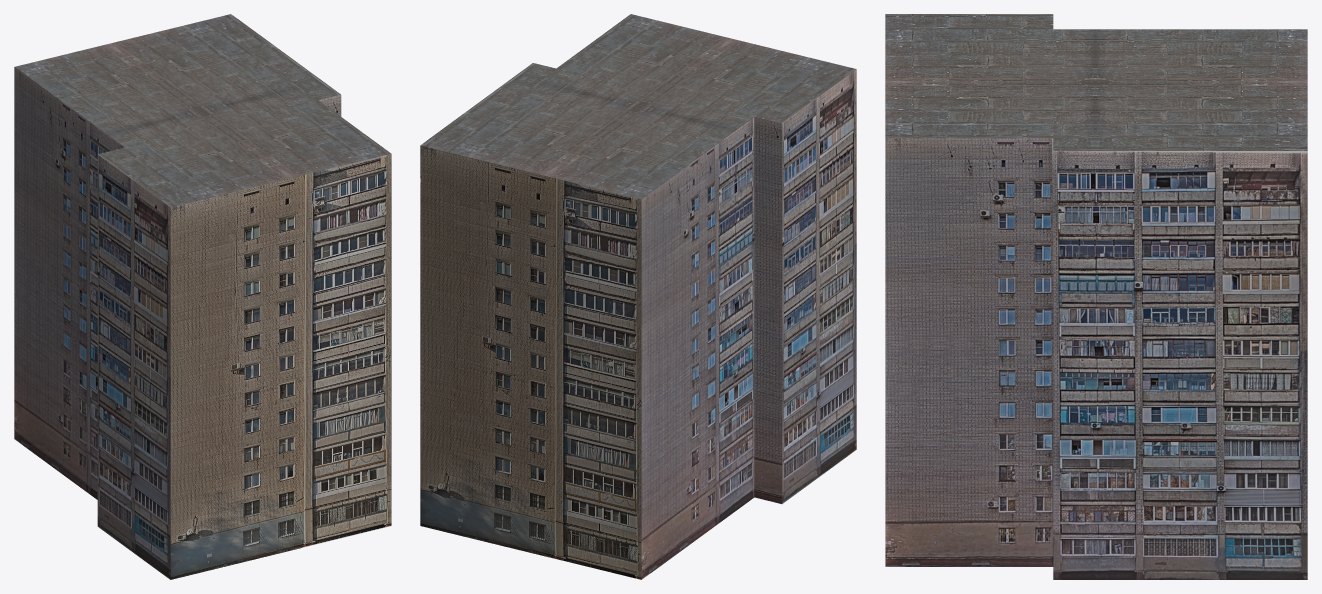
File: russian.glb
3 views of the same model, side by side, from view 1: azimuth 30°, elevation 25°; view 2: azimuth 150°, elevation 25°; view 3: azimuth 270°, elevation 25° (orthographic). The views are drawn at different scales.
Visible parts, largest first — view 1: Cube; view 2: Cube; view 3: Cube.
Boxes of the visible parts, left/top/right/bottom form: Cube: left=14, top=14, right=391, bottom=579; Cube: left=420, top=14, right=856, bottom=579; Cube: left=885, top=14, right=1307, bottom=579.
Size of the model in its own units: 2.77 by 4.04 by 3.6.
1 material, 1 textured.
